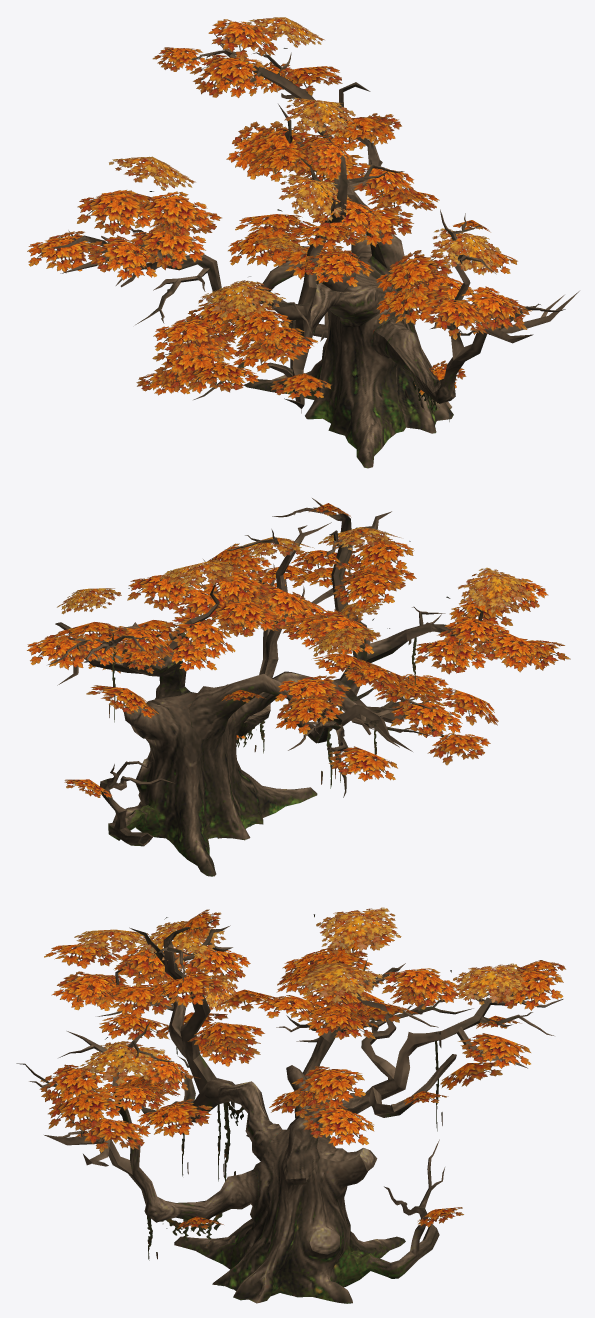
Rendered from 7003_Item_shu_3.FBX.
The picture shows the model from 3 angles, top to bottom: view 1: azimuth 30°, elevation 25°; view 2: azimuth 150°, elevation 25°; view 3: azimuth 270°, elevation 25°; orthographic projection. The views are drawn at different scales.
Parts seen in each view (by area): view 1: 7003_Item_shu_3; view 2: 7003_Item_shu_3; view 3: 7003_Item_shu_3.
Part boxes in pixels (x1,y1,x2,y2): 7003_Item_shu_3: (27,17,579,468); 7003_Item_shu_3: (27,498,570,876); 7003_Item_shu_3: (16,907,565,1303).
Bounding box in the file's own units: 795 × 1000 × 616.
Materials: 1 (1 with a texture image).
